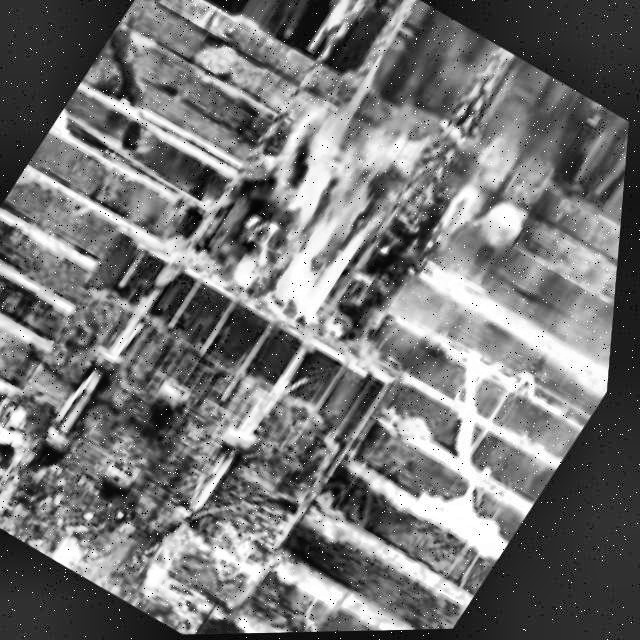Fire: (218, 71, 453, 337)
